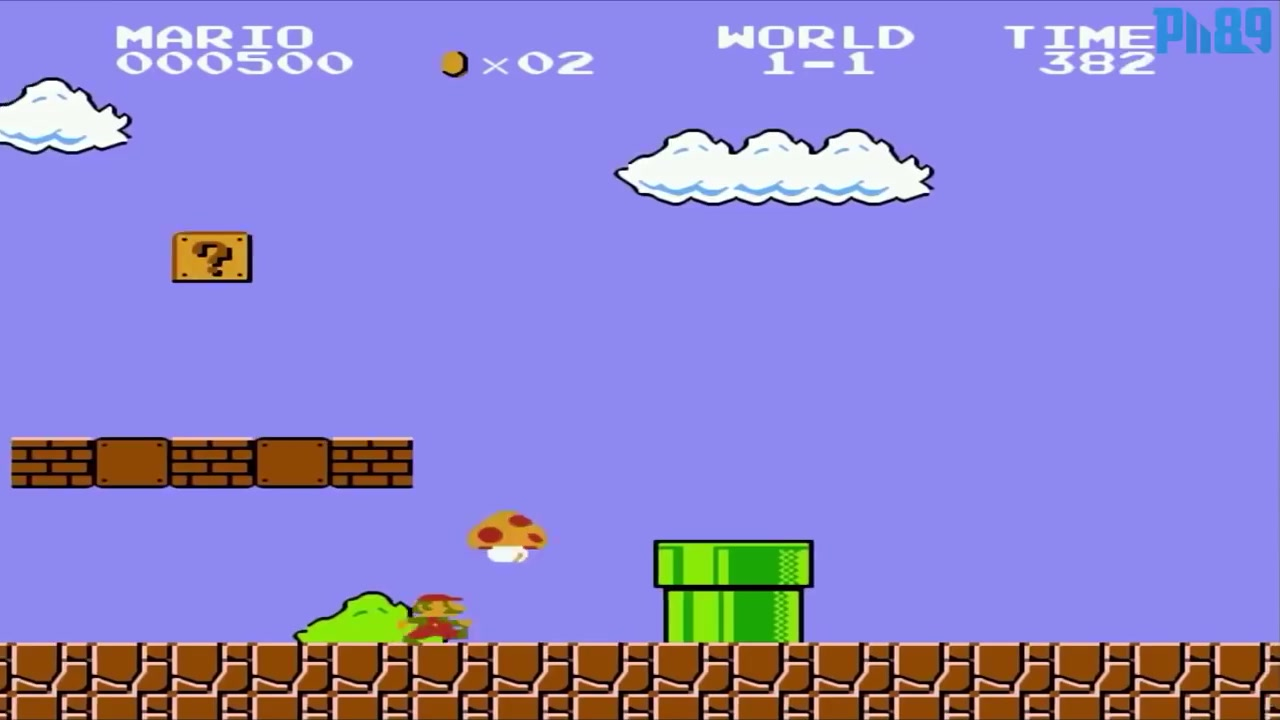mario: (388, 585, 475, 644)
